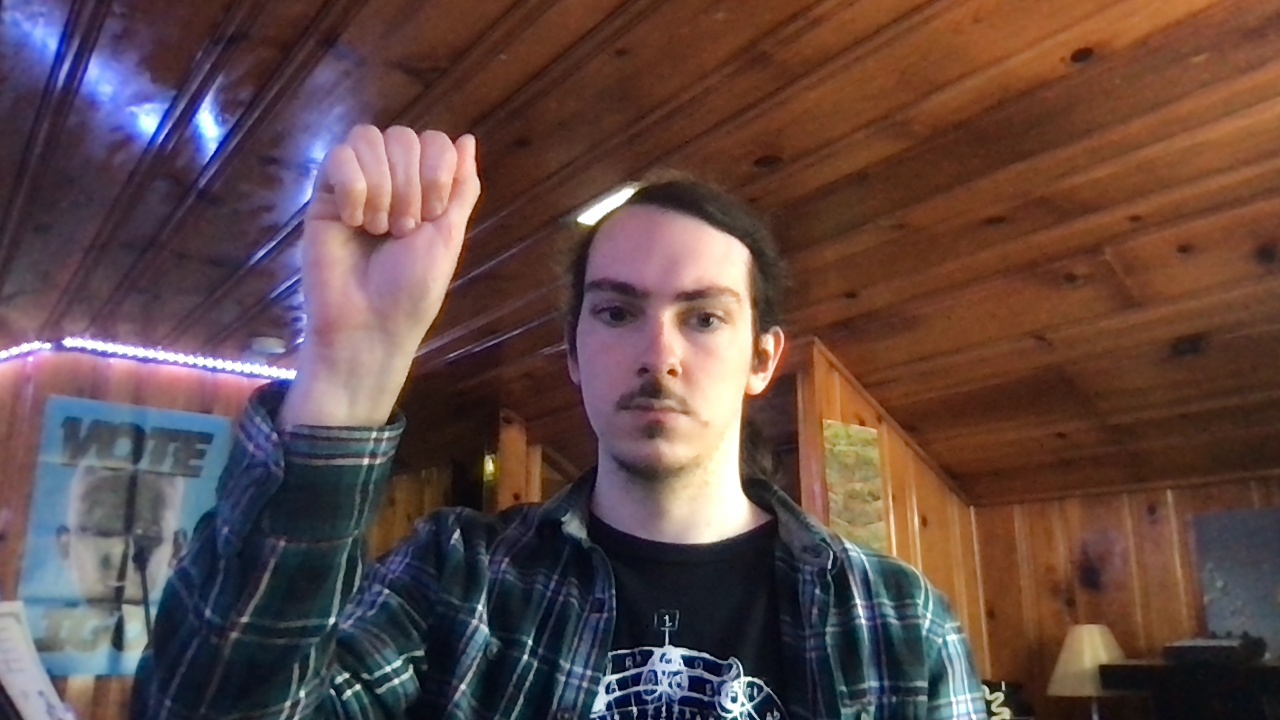a: (295, 120, 485, 334)
